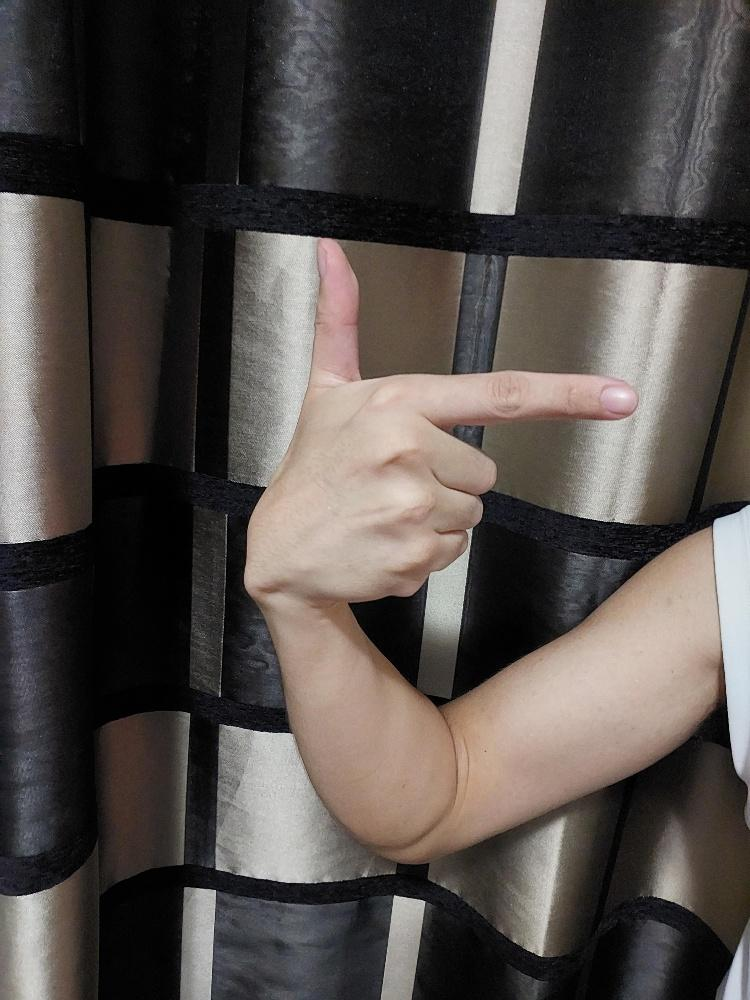g: (241, 234, 643, 605)
